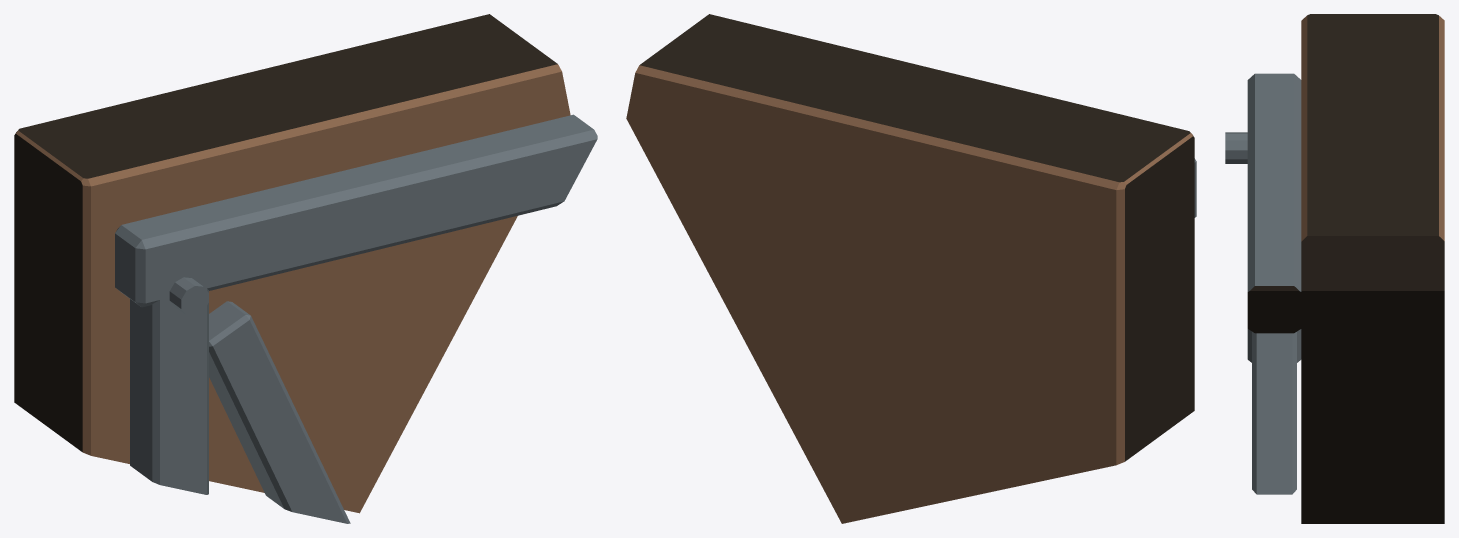
File: SM_DoorShard_01_28.fbx
3 views of the same model, side by side, from view 1: azimuth 30°, elevation 25°; view 2: azimuth 150°, elevation 25°; view 3: azimuth 270°, elevation 25° (orthographic). The views are drawn at different scales.
Parts seen in each view (by area): view 1: SM_DoorShard_01_28; view 2: SM_DoorShard_01_28; view 3: SM_DoorShard_01_28.
Boxes of the visible parts, x1,y1,x2,y2 form: SM_DoorShard_01_28: (14,14,597,523); SM_DoorShard_01_28: (626,14,1196,523); SM_DoorShard_01_28: (1225,14,1444,523).
Size of the model in its own units: 60.13 by 24.5 by 47.13.
